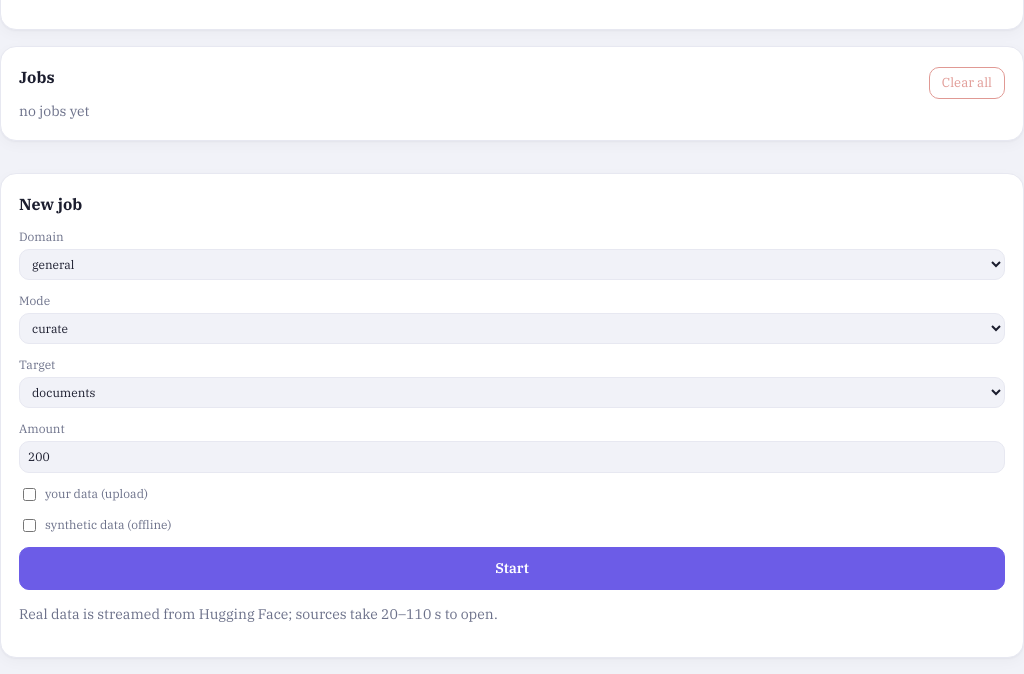
it: Home page › your data (upload) › swaps the synthetic option for the file fields
(page scrolled)
Expected: the checkbox labelled "synthetic data (offline)" is shown, [23,519,36,532]
Click the checkbox labelled "your data (upload)" at (30, 494), box [23,488,36,501]
(page scrolled)
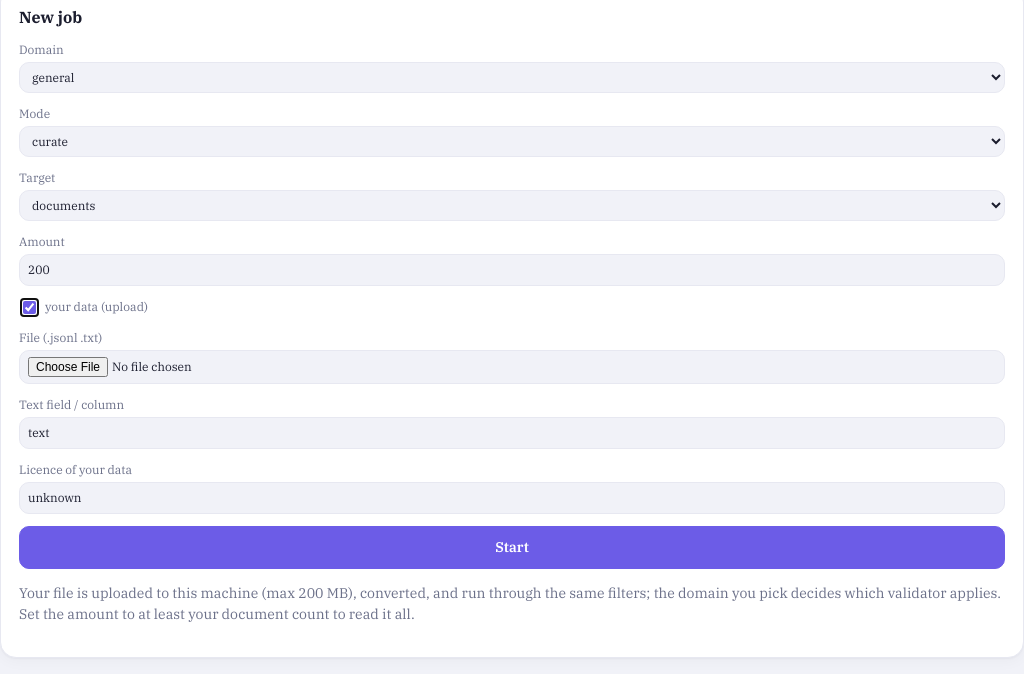
Result: the label labelled "synthetic data" is gone
Result: the field labelled "Text field / column" holds "text" at [19,417,1005,449]
Result: the field labelled "Licence of your data" holds "unknown" at [19,482,1005,514]
